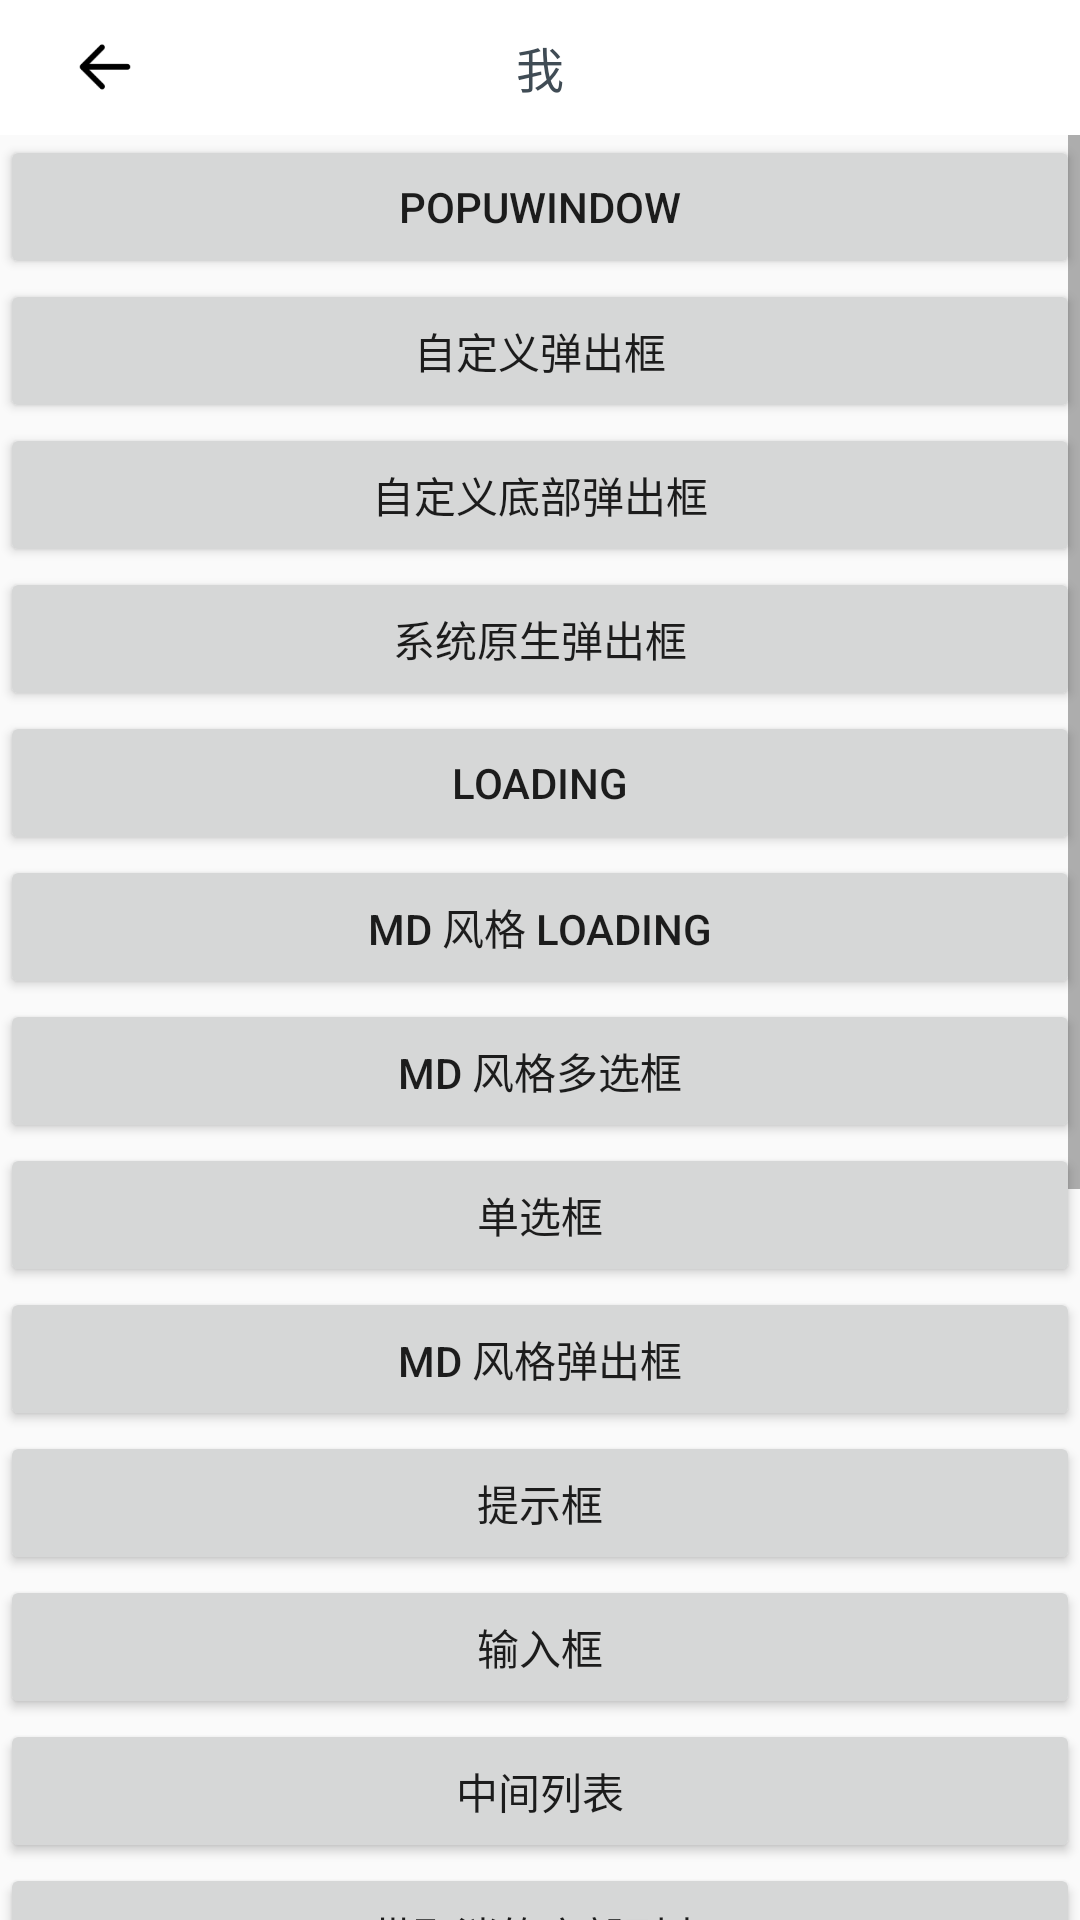

Icon bounding boxes for this 1080×1920 phone screenshot, format (x1=x1, y1=y1, x2=x2, y2=y2):
return: (x1=79, y1=44, x2=131, y2=90)
